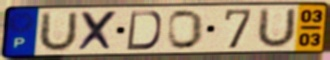7: (222, 8, 253, 50)
D: (124, 10, 163, 51)
O: (166, 9, 206, 52)
U: (254, 6, 298, 50), (36, 10, 80, 54)
X: (76, 9, 121, 53)
